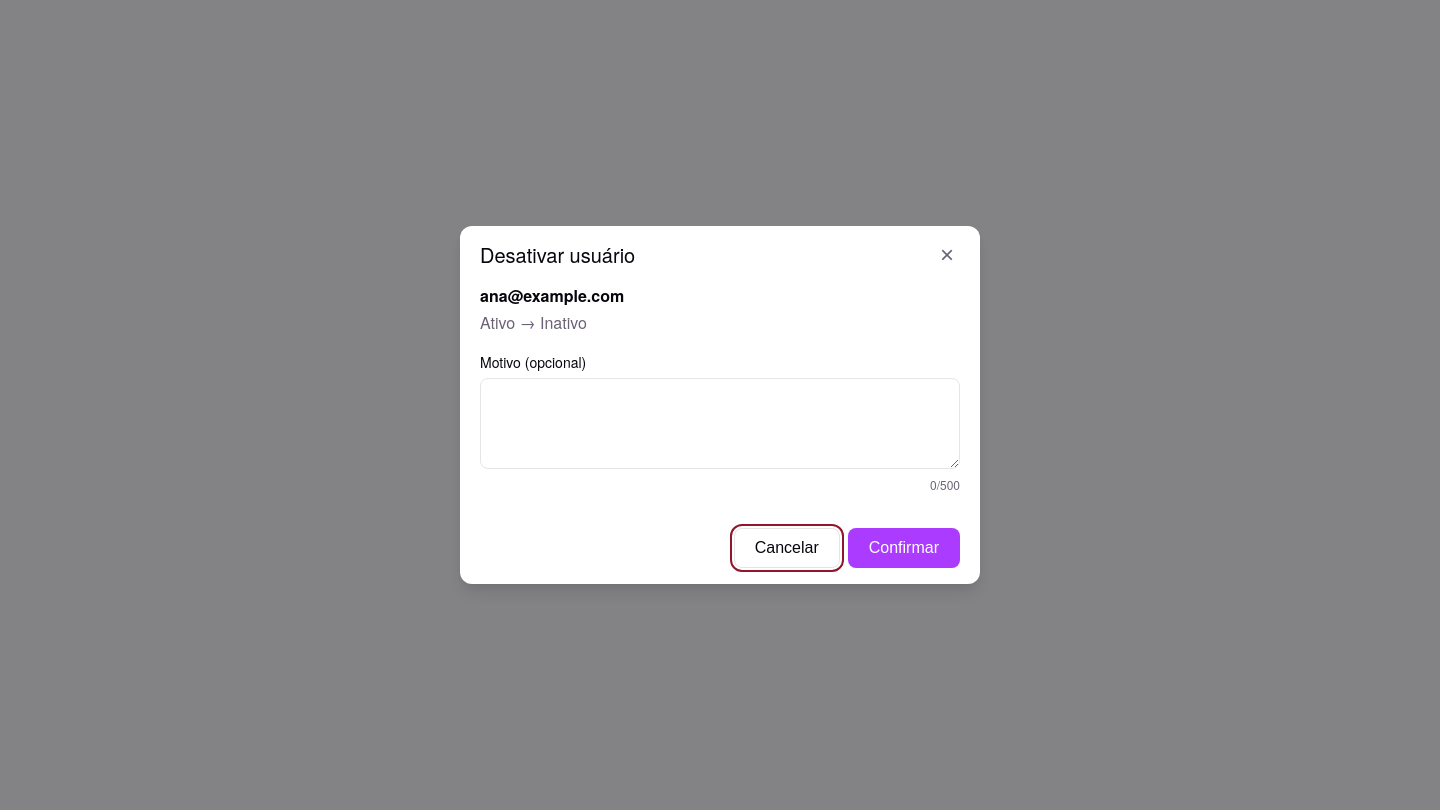
Test case: ToggleActiveDialog › shows reason counter with 500 limit
Type "ab" into the text box labelled "Motivo (opcional)" at (720, 423), box [480, 378, 960, 469]
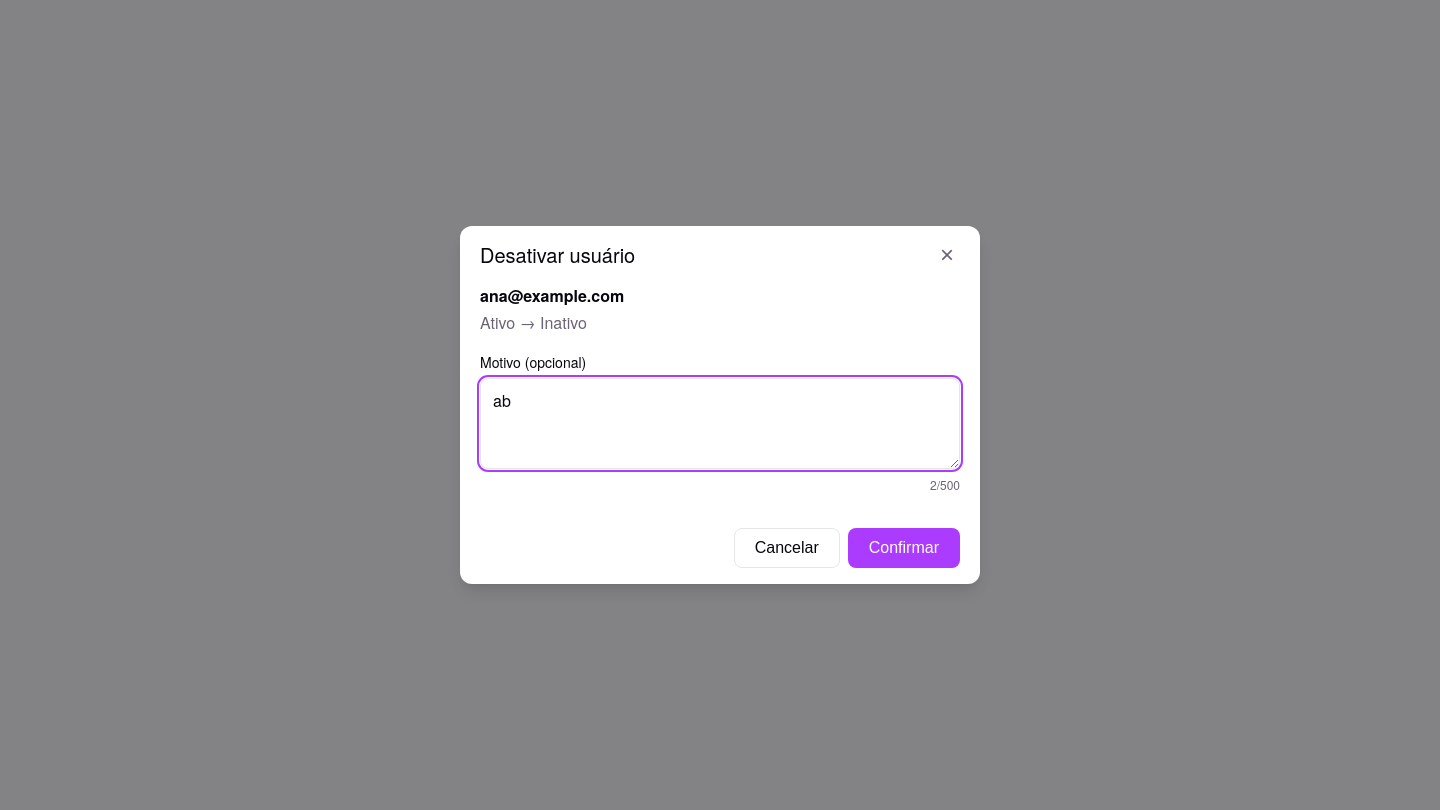
Result: the text "2/500" is shown at [930, 473, 960, 496]
